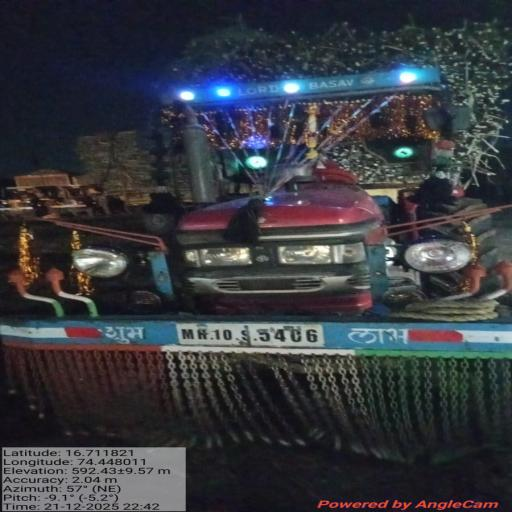number_plate: (171, 321, 341, 357)
